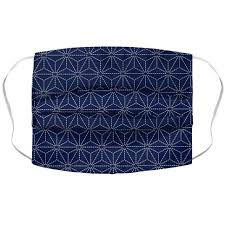cloth_mask: (2, 44, 225, 176)
